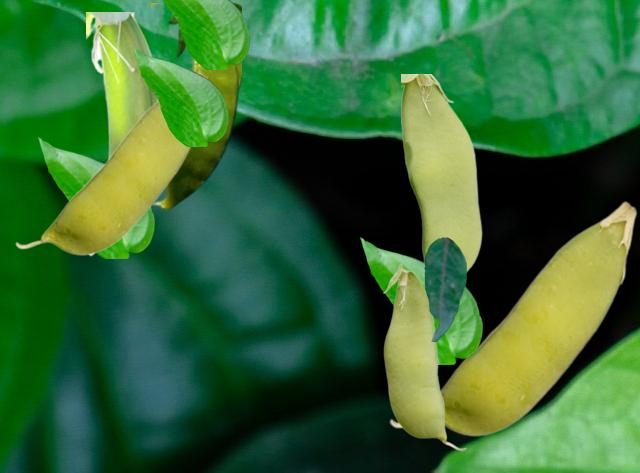pea: (389, 201, 636, 435), (15, 72, 207, 254), (151, 3, 240, 209), (86, 12, 156, 255), (401, 74, 481, 273), (382, 263, 466, 450)
